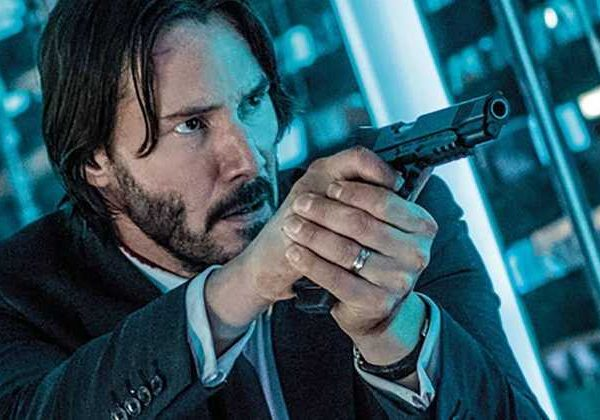gun: (249, 87, 520, 322)
